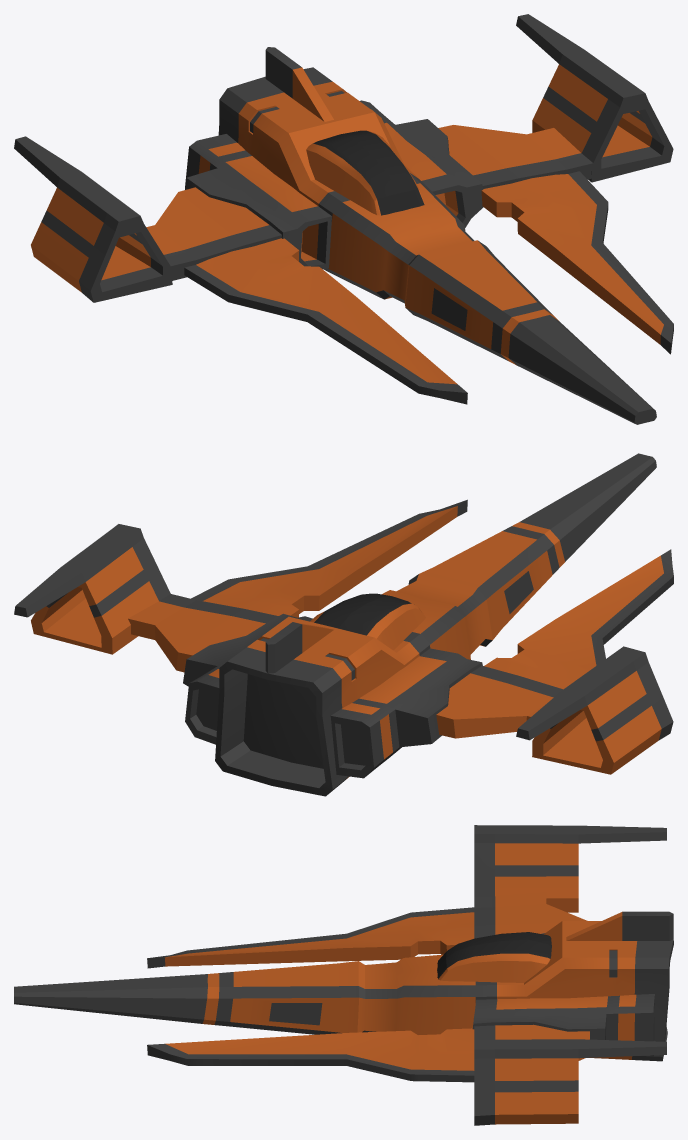
File: spaceship.glb
The picture shows the model from 3 angles, top to bottom: view 1: azimuth 30°, elevation 25°; view 2: azimuth 150°, elevation 25°; view 3: azimuth 270°, elevation 25°; orthographic projection. The views are drawn at different scales.
Parts seen in each view (by area): view 1: Spaceship_RaeTheRedPanda; view 2: Spaceship_RaeTheRedPanda; view 3: Spaceship_RaeTheRedPanda.
Part boxes in pixels (x1,y1,x2,y2): Spaceship_RaeTheRedPanda: (14, 14, 673, 424); Spaceship_RaeTheRedPanda: (14, 453, 673, 796); Spaceship_RaeTheRedPanda: (14, 825, 673, 1125).
Size of the model in its own units: 9.95 by 2.35 by 11.17.
Materials: 1 (1 with a texture image).
